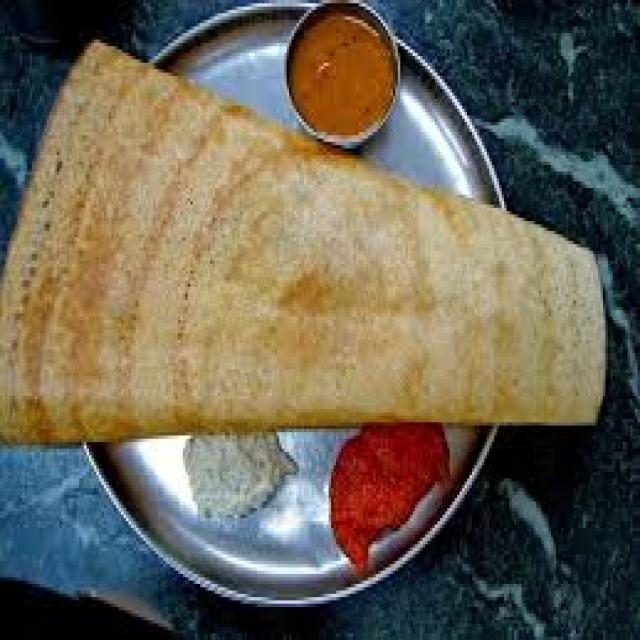DOSA: (3, 42, 606, 437)
